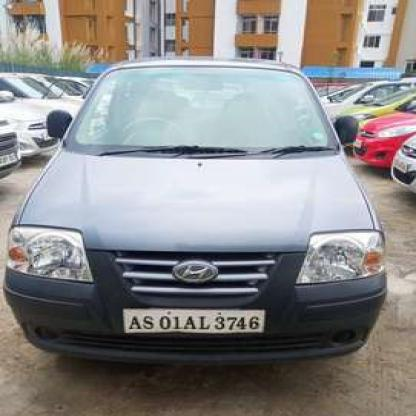license_plate: (122, 306, 262, 333)
